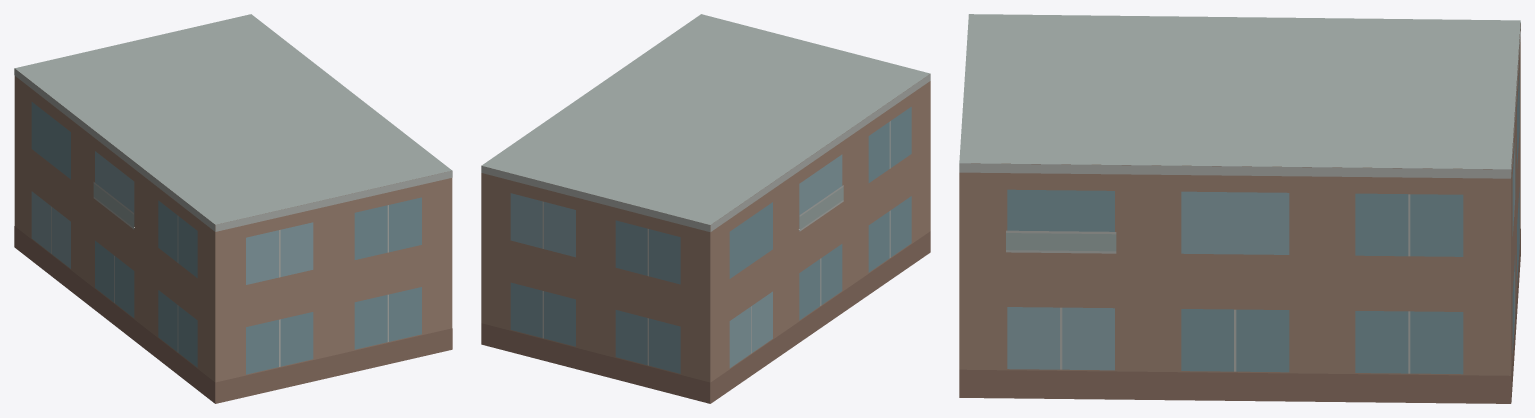
The model's file is survey-upis-32816607.glb.
3 views of the same model, side by side, from view 1: azimuth 30°, elevation 25°; view 2: azimuth 150°, elevation 25°; view 3: azimuth 270°, elevation 25° (orthographic). The views are drawn at different scales.
Visible parts, largest first — view 1: survey-upis-32816607.tmp; view 2: survey-upis-32816607.tmp; view 3: survey-upis-32816607.tmp.
Boxes of the visible parts, left/top/right/bottom form: survey-upis-32816607.tmp: left=14, top=14, right=452, bottom=403; survey-upis-32816607.tmp: left=481, top=14, right=930, bottom=403; survey-upis-32816607.tmp: left=959, top=14, right=1520, bottom=403.
Size of the model in its own units: 8.67 by 6.1 by 13.25.
